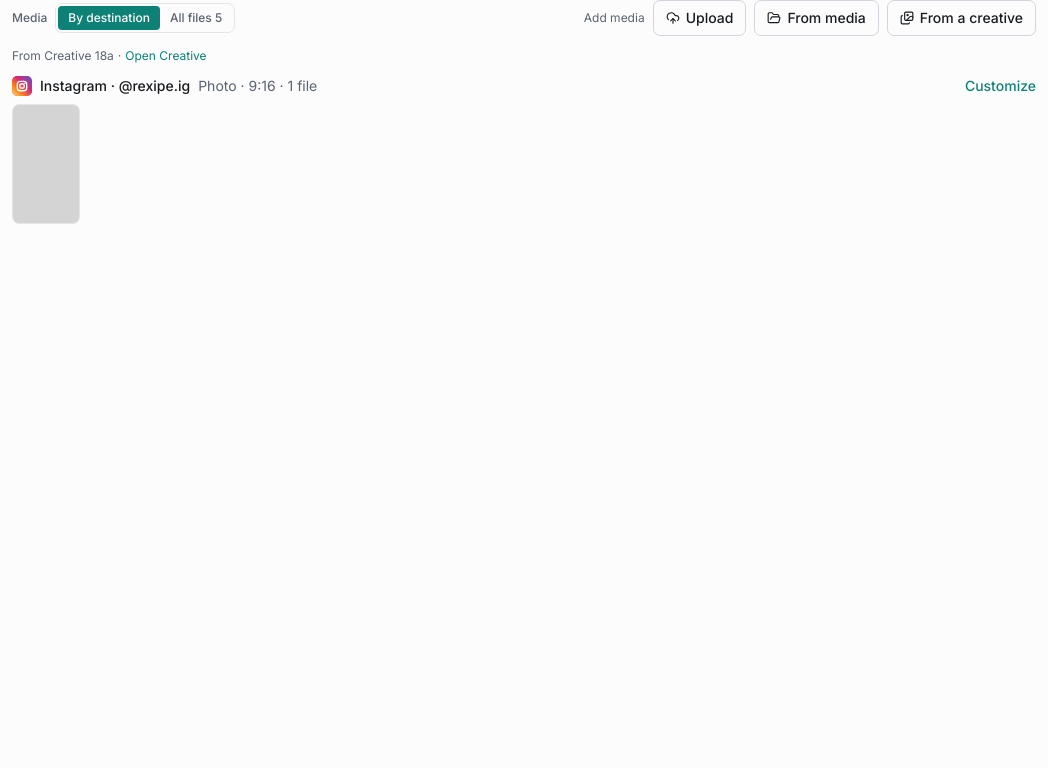
Scenario: PostMediaSection › flags a file no destination uses when every destination picks its own
The width and height of the screenshot is (1048, 768).
Click the radio button labelled "All files 5". click: (196, 18)
box: [160,6,232,30]
(page scrolled)
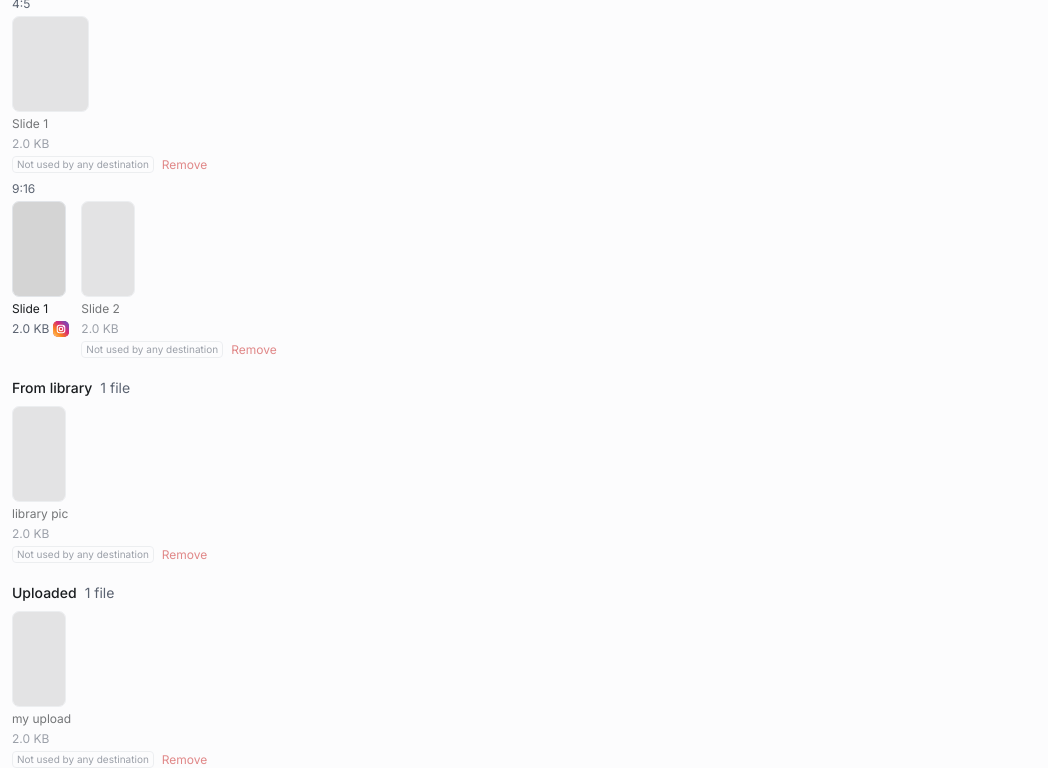
Expected: the text "Not used by any destination" is shown 4 times, [12,156,154,173]; [81,341,223,358]; [12,546,154,563]; [12,751,154,767]
Expected: the button with aria-label "Remove my upload" is shown, [162,752,207,767]
